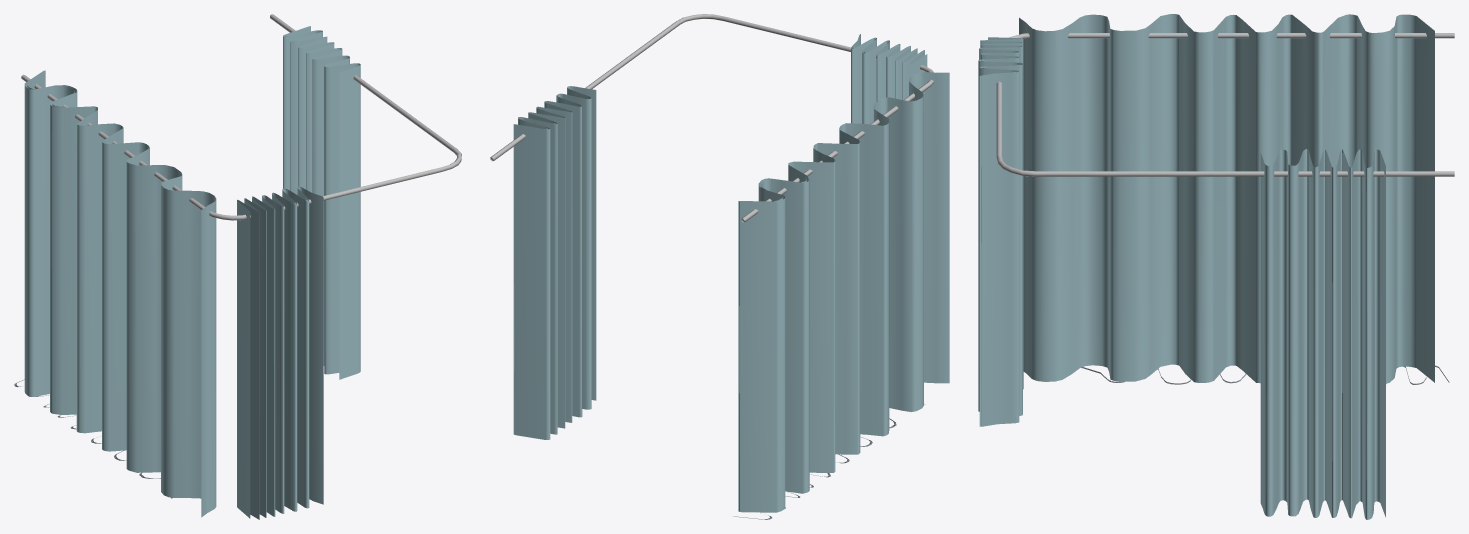
Rendered from curtain_kp_closing.glb.
3 views of the same model, side by side, from view 1: azimuth 30°, elevation 25°; view 2: azimuth 150°, elevation 25°; view 3: azimuth 270°, elevation 25° (orthographic). The views are drawn at different scales.
Parts seen in each view (by area): view 1: Curtain_12; view 2: Curtain_12; view 3: Curtain_12.
Part boxes in pixels (<box>): Curtain_12: <box>14,14,461,519</box>; Curtain_12: <box>490,14,949,519</box>; Curtain_12: <box>978,14,1454,519</box>.
Size of the model in its own units: 4.88 by 5.13 by 6.3.
2 materials, 1 textured.
